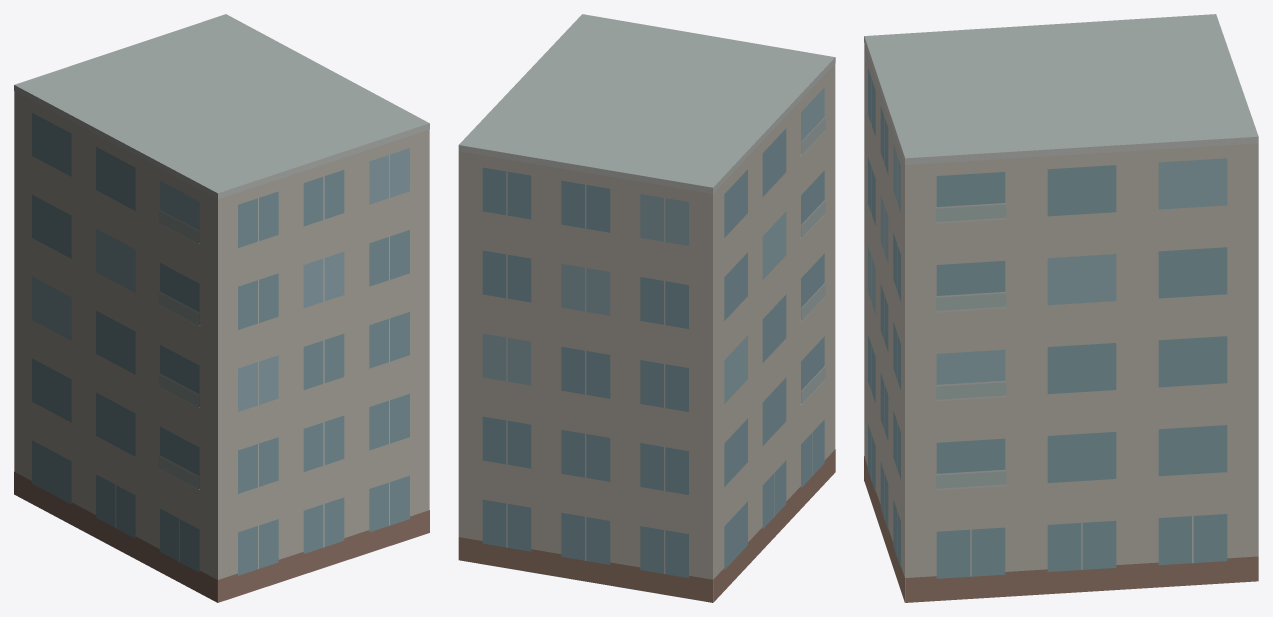
The model's file is survey-upis-32923055.glb.
3 renders of one model, left to right at view 1: azimuth 30°, elevation 25°; view 2: azimuth 150°, elevation 25°; view 3: azimuth 270°, elevation 25°, orthographic. The views are drawn at different scales.
Visible parts, largest first — view 1: survey-upis-32923055.tmp; view 2: survey-upis-32923055.tmp; view 3: survey-upis-32923055.tmp.
Boxes of the visible parts, x1,y1,x2,y2 form: survey-upis-32923055.tmp: (14,14,429,602); survey-upis-32923055.tmp: (458,14,835,602); survey-upis-32923055.tmp: (864,14,1258,602).
Size of the model in its own units: 11.39 by 16.35 by 13.16.
